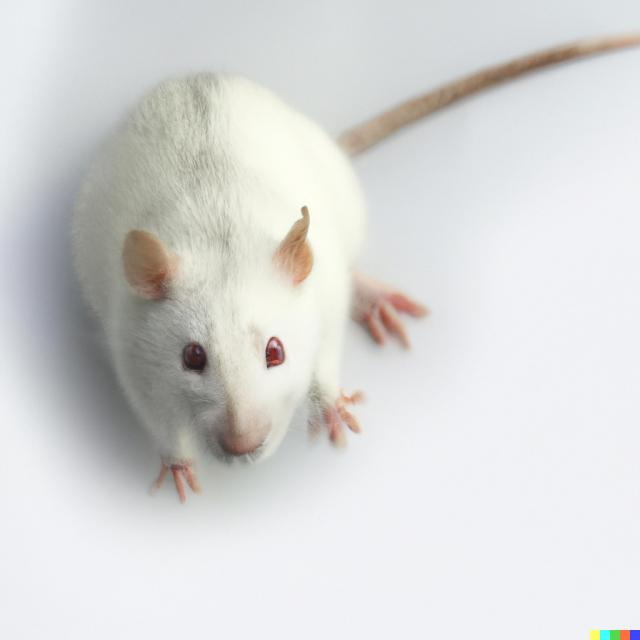rodents: (49, 59, 416, 497)
